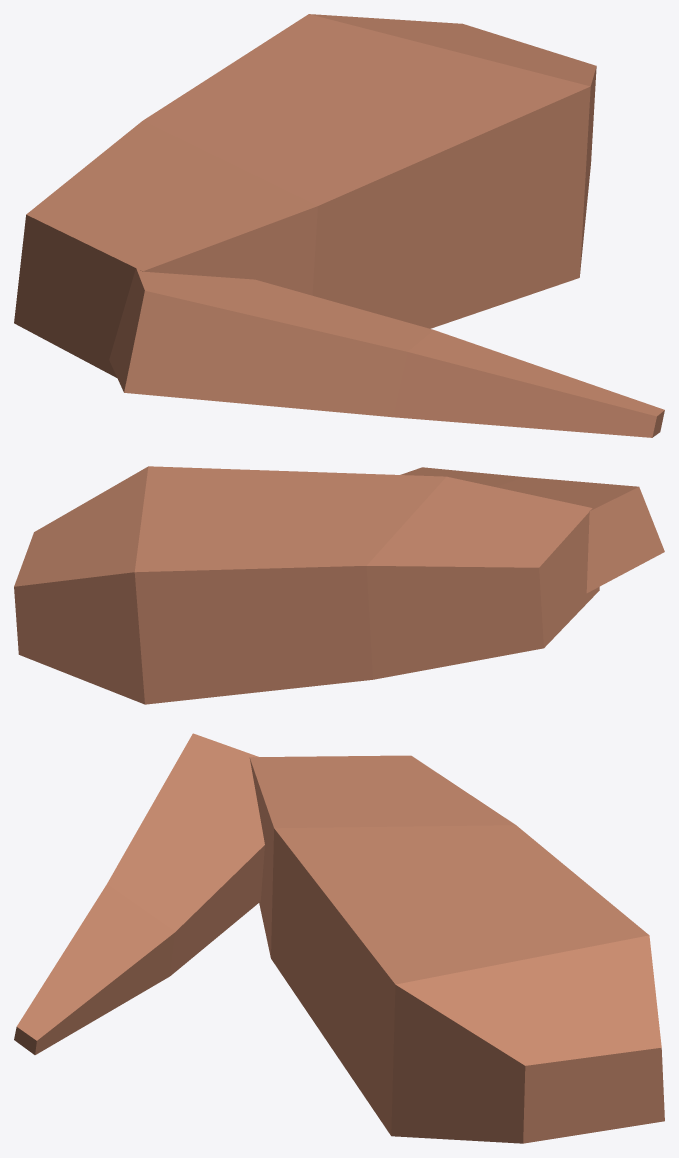
File: wing01.fbx
3 views of the same model, one above another, from view 1: azimuth 30°, elevation 25°; view 2: azimuth 150°, elevation 25°; view 3: azimuth 270°, elevation 25° (orthographic). The views are drawn at different scales.
Parts seen in each view (by area): view 1: wing01; view 2: wing01; view 3: wing01.
Part boxes in pixels (<box>): wing01: <box>14,14,664,437</box>; wing01: <box>14,466,664,704</box>; wing01: <box>14,733,664,1143</box>.
Bounding box in the file's own units: 13.43 × 3.94 × 13.25.
Materials: 1 (1 with a texture image).
